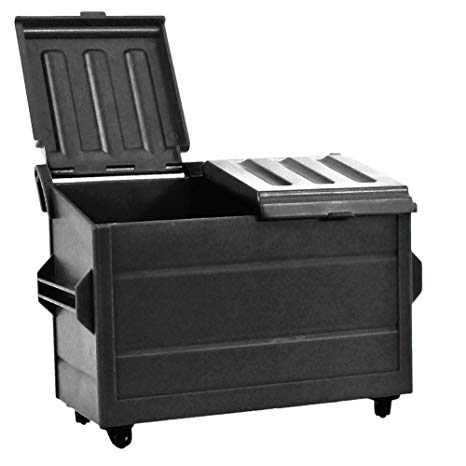Dumpster: (11, 12, 428, 453)
